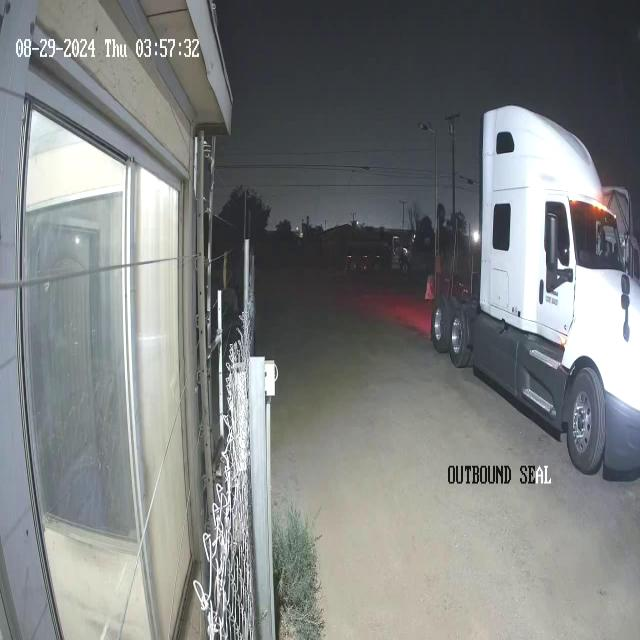BOBTAIL: (428, 102, 639, 478)
